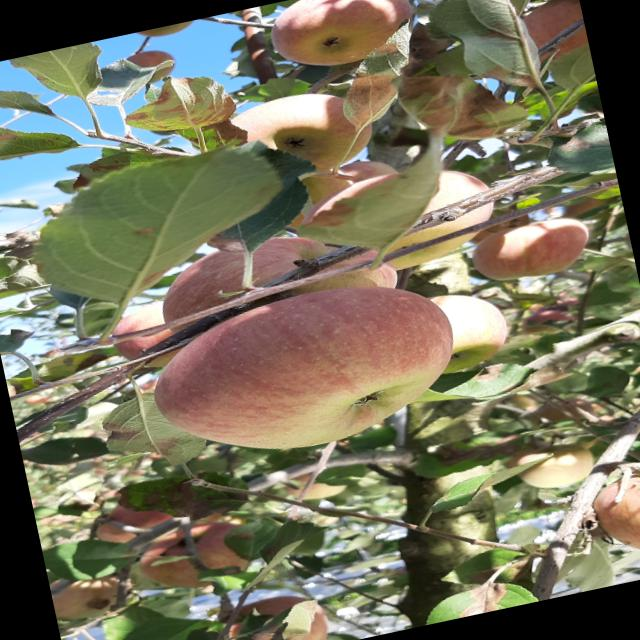fresh: (132, 259, 485, 483)
